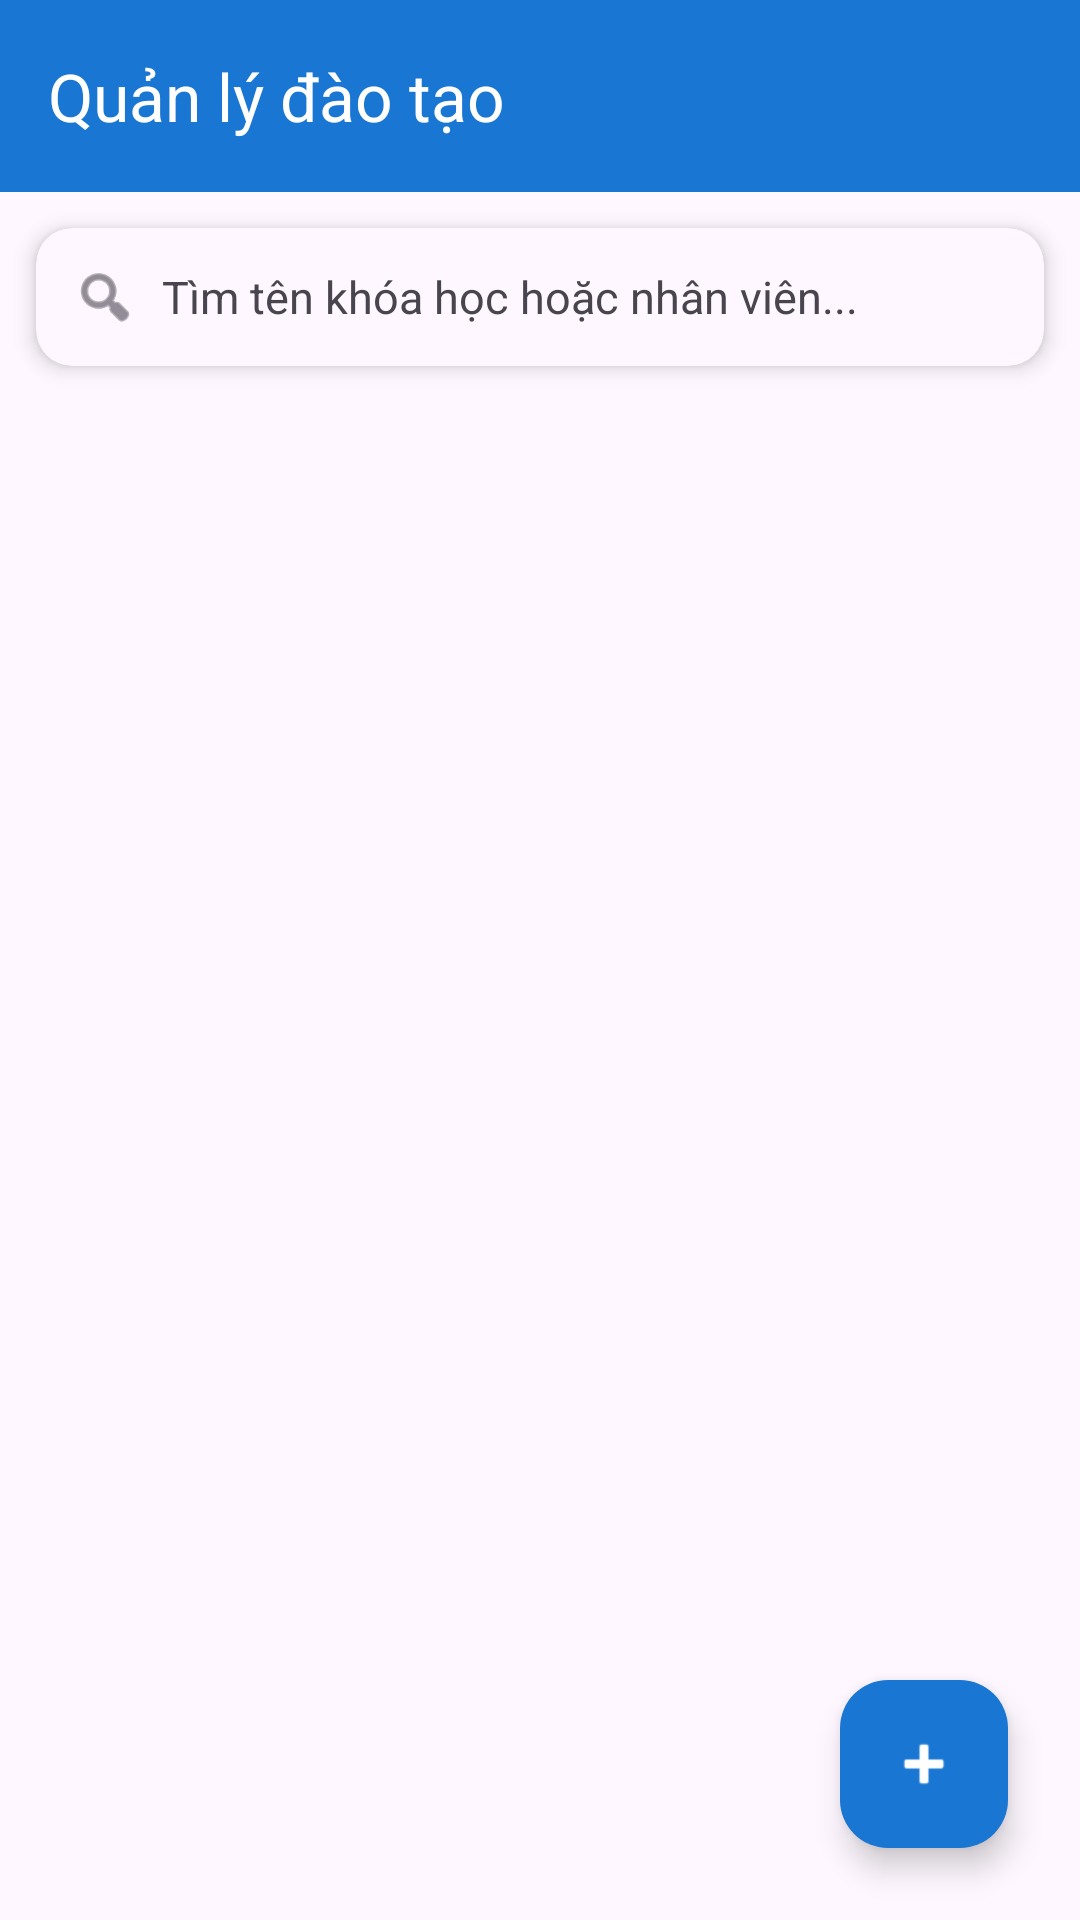

Locate icon controls on the screen. Image size 1080 × 1920, boxes as bbox=[x1, y1, x2, y2].
add: bbox=[840, 1680, 1008, 1848]
search: bbox=[81, 273, 129, 322]
